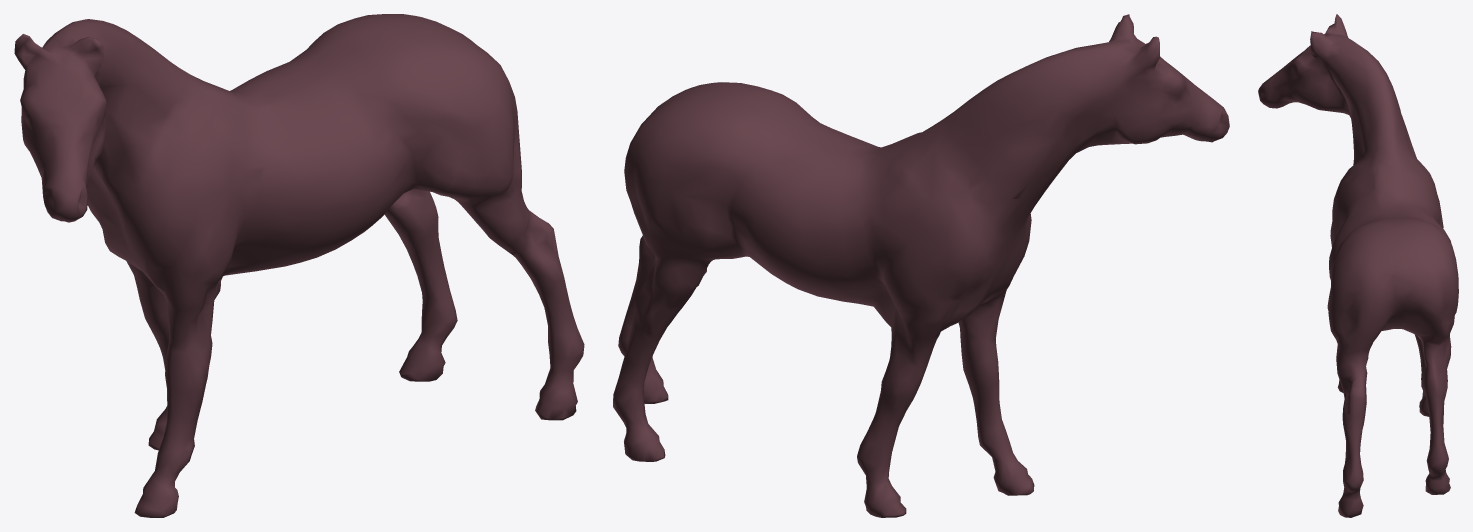
File: horse5KN.obj
3 renders of one model, left to right at view 1: azimuth 30°, elevation 25°; view 2: azimuth 150°, elevation 25°; view 3: azimuth 270°, elevation 25°, orthographic. The views are drawn at different scales.
Bounding box in the file's own units: 0.1834 × 0.1527 × 0.0841.
